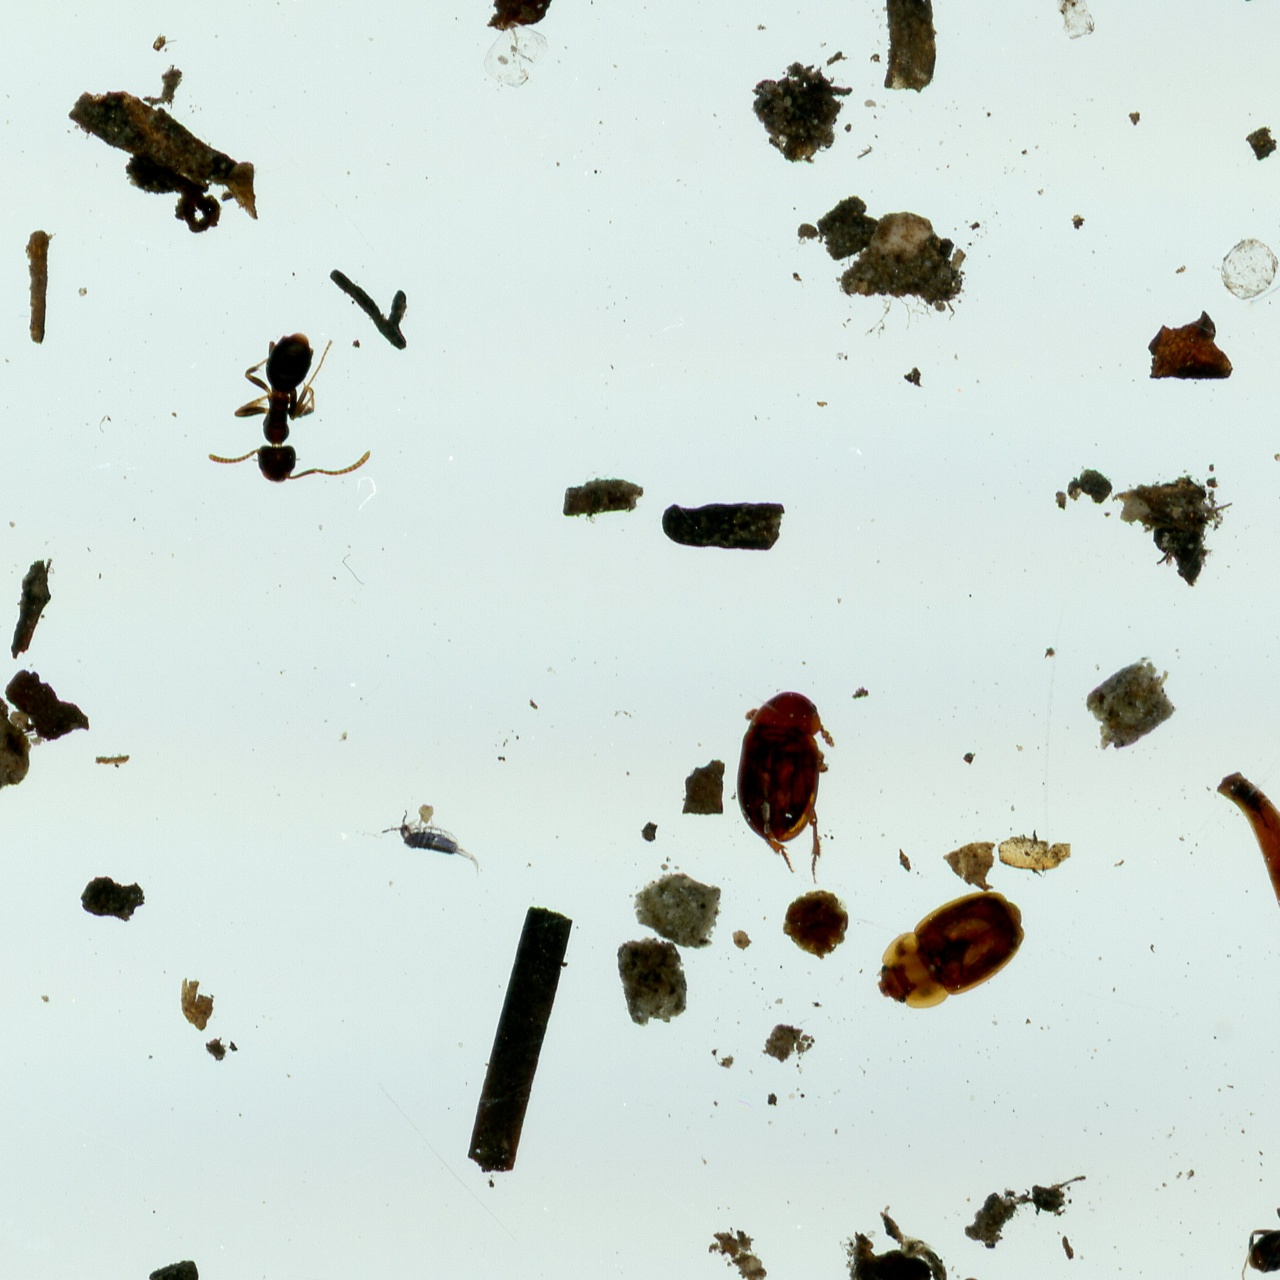arthropod: (858, 871, 1040, 1026), (207, 328, 379, 483), (737, 689, 833, 881), (1217, 1111, 1280, 1280), (377, 805, 488, 865)
